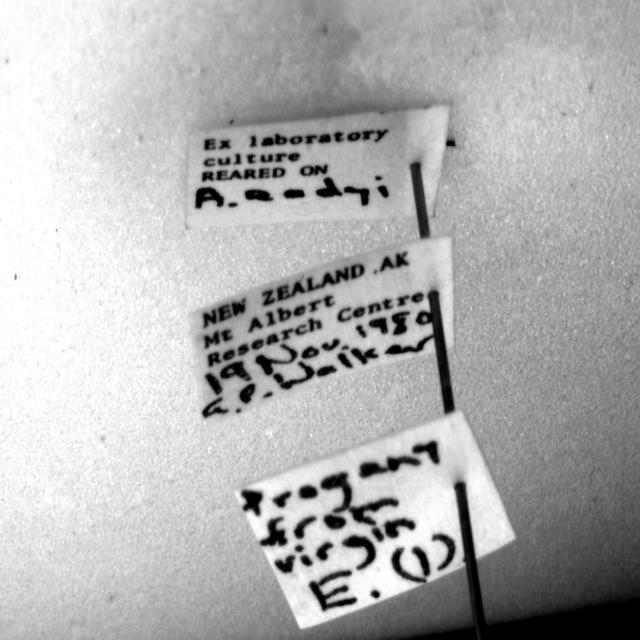hand_label: (235, 411, 515, 628)
mixed_label: (190, 236, 454, 426), (185, 105, 450, 229)
